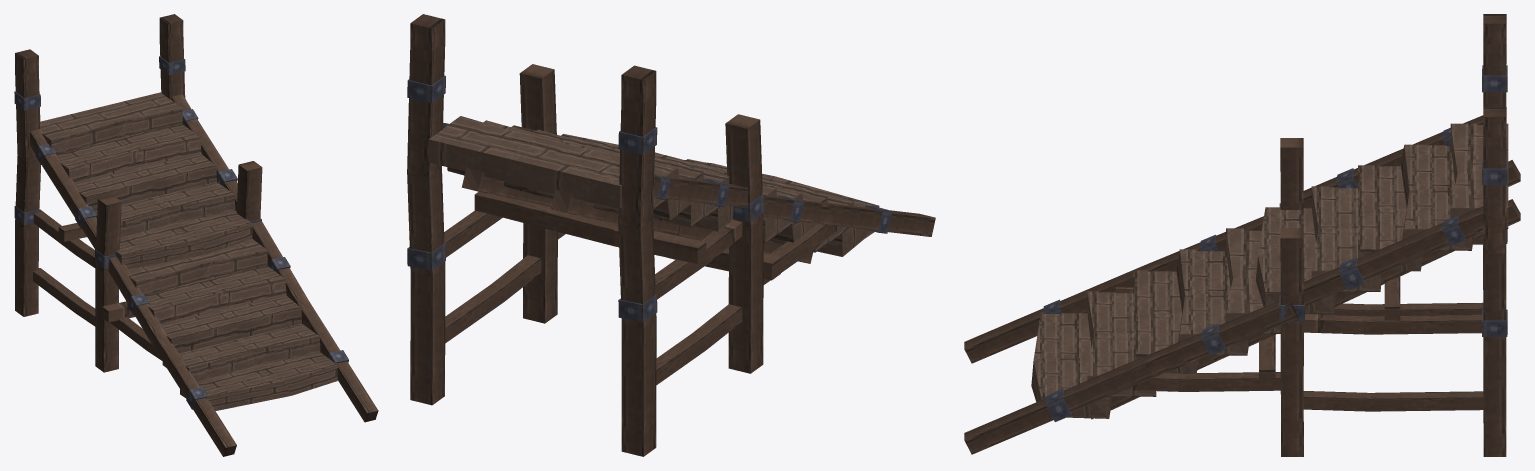
Rendered from stairs_wood_wood_large.glb.
3 renders of one model, left to right at view 1: azimuth 30°, elevation 25°; view 2: azimuth 150°, elevation 25°; view 3: azimuth 270°, elevation 25°, orthographic. The views are drawn at different scales.
Parts seen in each view (by area): view 1: stairs_wood_wood_large; view 2: stairs_wood_wood_large; view 3: stairs_wood_wood_large.
Boxes of the visible parts, left/top/right/bottom form: stairs_wood_wood_large: left=14, top=14, right=378, bottom=456; stairs_wood_wood_large: left=407, top=14, right=935, bottom=456; stairs_wood_wood_large: left=964, top=14, right=1520, bottom=456.
Size of the model in its own units: 2.15 by 3.25 by 4.81.
1 material, 1 textured.
